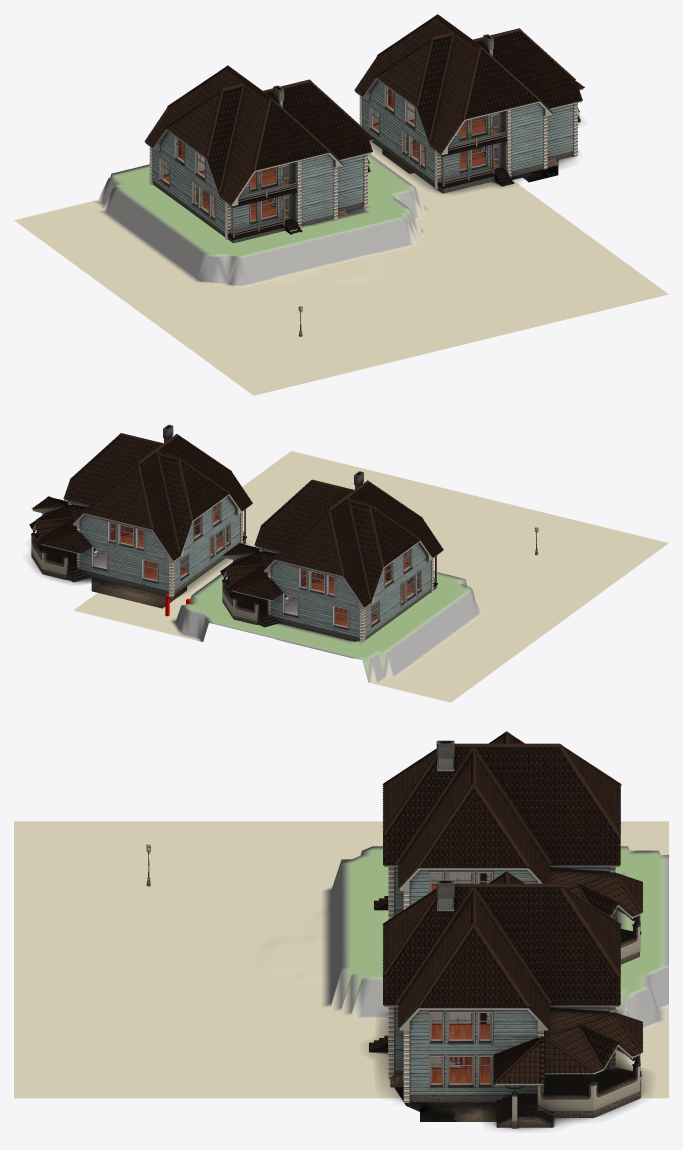
3 renders of one model, top to bottom at view 1: azimuth 30°, elevation 25°; view 2: azimuth 150°, elevation 25°; view 3: azimuth 270°, elevation 25°, orthographic. The views are drawn at different scales.
Parts seen in each view (by area): view 1: Terrain 9,1, Aileen House (×29); view 2: Aileen House (×34), Terrain 9,1; view 3: Terrain 9,1, Aileen House (×34).
Boxes of the visible parts, x1,y1,x2,y2 form: Terrain 9,1: (14,141,668,395); Aileen House (×29): (144,14,582,243); Aileen House (×34): (29,433,443,641); Terrain 9,1: (73,451,668,702); Terrain 9,1: (14,821,668,1098); Aileen House (×34): (368,731,648,1129).
Bounding box in the file's own units: 79.44 × 22.14 × 64.
53 materials, 51 textured.
